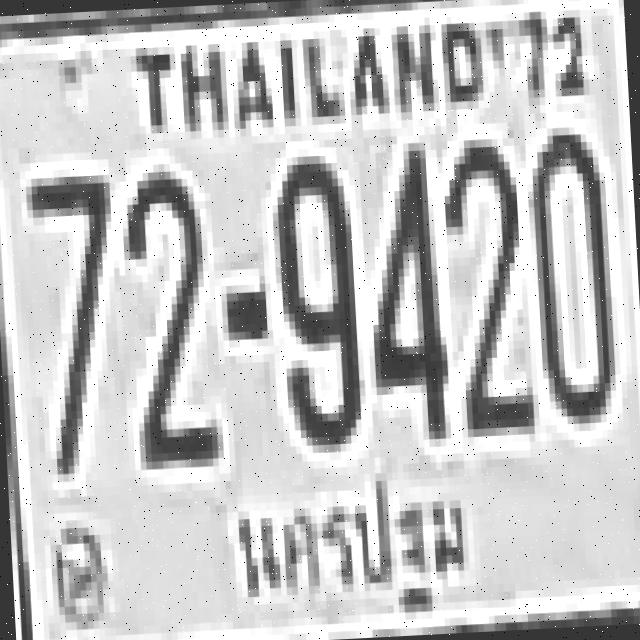0: (527, 126, 615, 418), (270, 151, 358, 443)
2: (120, 166, 212, 443), (442, 138, 528, 414)
4: (358, 138, 446, 438)
7: (26, 168, 119, 468), (26, 168, 114, 382)
9: (270, 147, 358, 447)
NakhonPathom: (227, 473, 476, 630)
